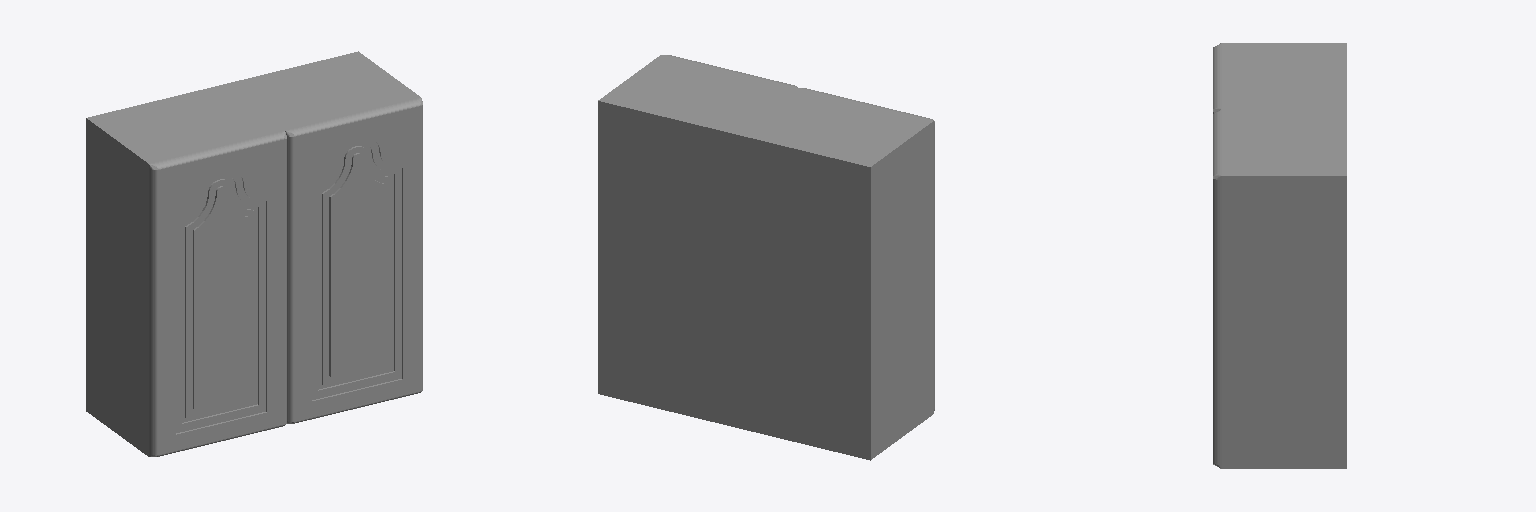
Rendered from double-wall-unit-700.obj.
3 views of the same model, side by side, from view 1: azimuth 30°, elevation 25°; view 2: azimuth 150°, elevation 25°; view 3: azimuth 270°, elevation 25° (orthographic).
Parts seen in each view (by area): view 1: Cube.003_Cube.008, Cube.004_Cube.000, Cube.002_Cube.004, Cube_Cube.002; view 2: Cube_Cube.002, Cube.002_Cube.004, Cube.001_Cube.003, Cube.003_Cube.008; view 3: Cube.001_Cube.003, Cube_Cube.002, Cube.004_Cube.000, Cube.003_Cube.008.
Boxes of the visible parts, x1=… form: Cube.003_Cube.008: x1=149, y1=131, x2=286, y2=456; Cube.004_Cube.000: x1=285, y1=98, x2=422, y2=423; Cube.002_Cube.004: x1=86, y1=117, x2=154, y2=456; Cube_Cube.002: x1=92, y1=53, x2=414, y2=161; Cube_Cube.002: x1=604, y1=56, x2=926, y2=458; Cube.002_Cube.004: x1=865, y1=120, x2=932, y2=460; Cube.001_Cube.003: x1=598, y1=55, x2=665, y2=394; Cube.003_Cube.008: x1=799, y1=88, x2=934, y2=413; Cube.001_Cube.003: x1=1222, y1=173, x2=1346, y2=468; Cube_Cube.002: x1=1222, y1=46, x2=1346, y2=172; Cube.004_Cube.000: x1=1213, y1=109, x2=1221, y2=468; Cube.003_Cube.008: x1=1213, y1=43, x2=1221, y2=113.
Size of the model in its own units: 140 by 144 by 60.